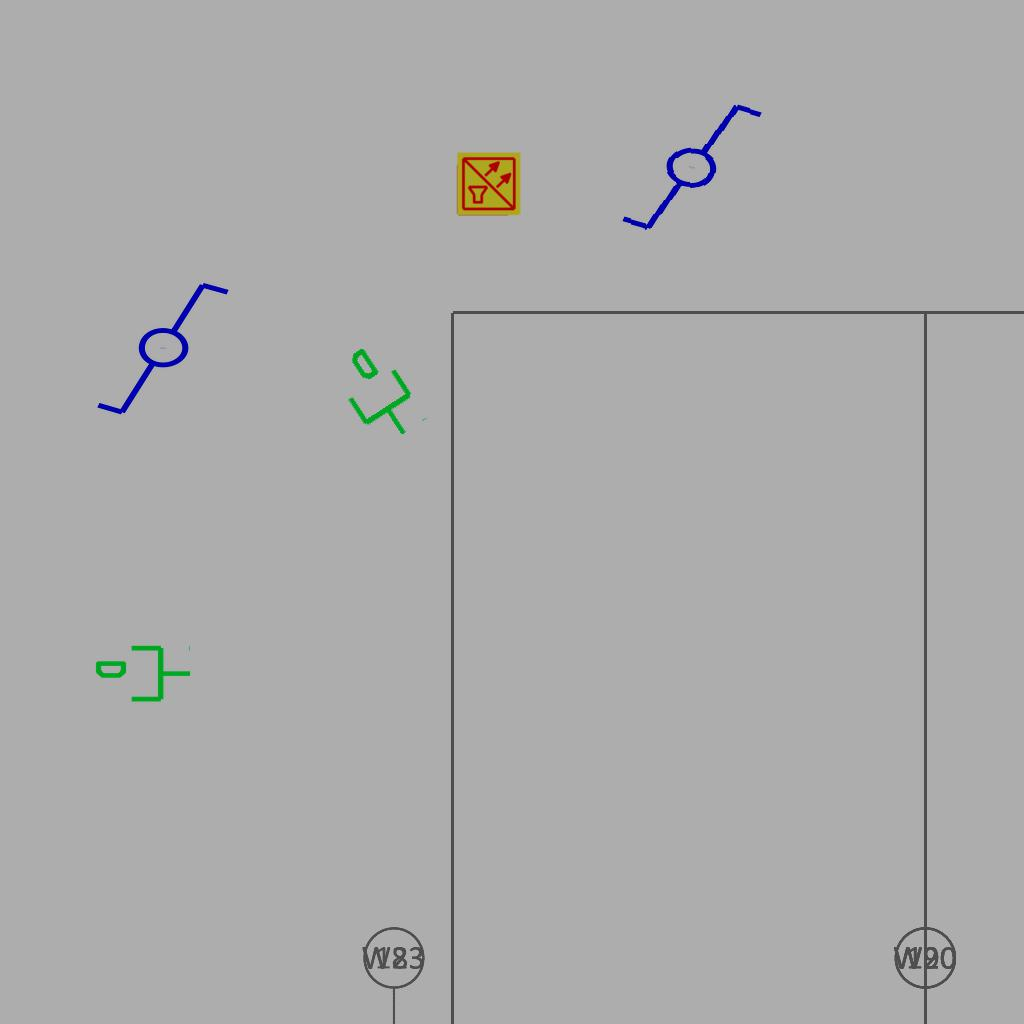Datenanschluss_einfach: (320, 334, 433, 456), (93, 641, 193, 710)
OKW_Multisensormelder_(Kombination_optischer_Rauch-Kahlenmonoxid_Waerme-Melder): (456, 151, 522, 217)
Wechselschalter: (600, 87, 767, 243), (93, 278, 250, 422)
